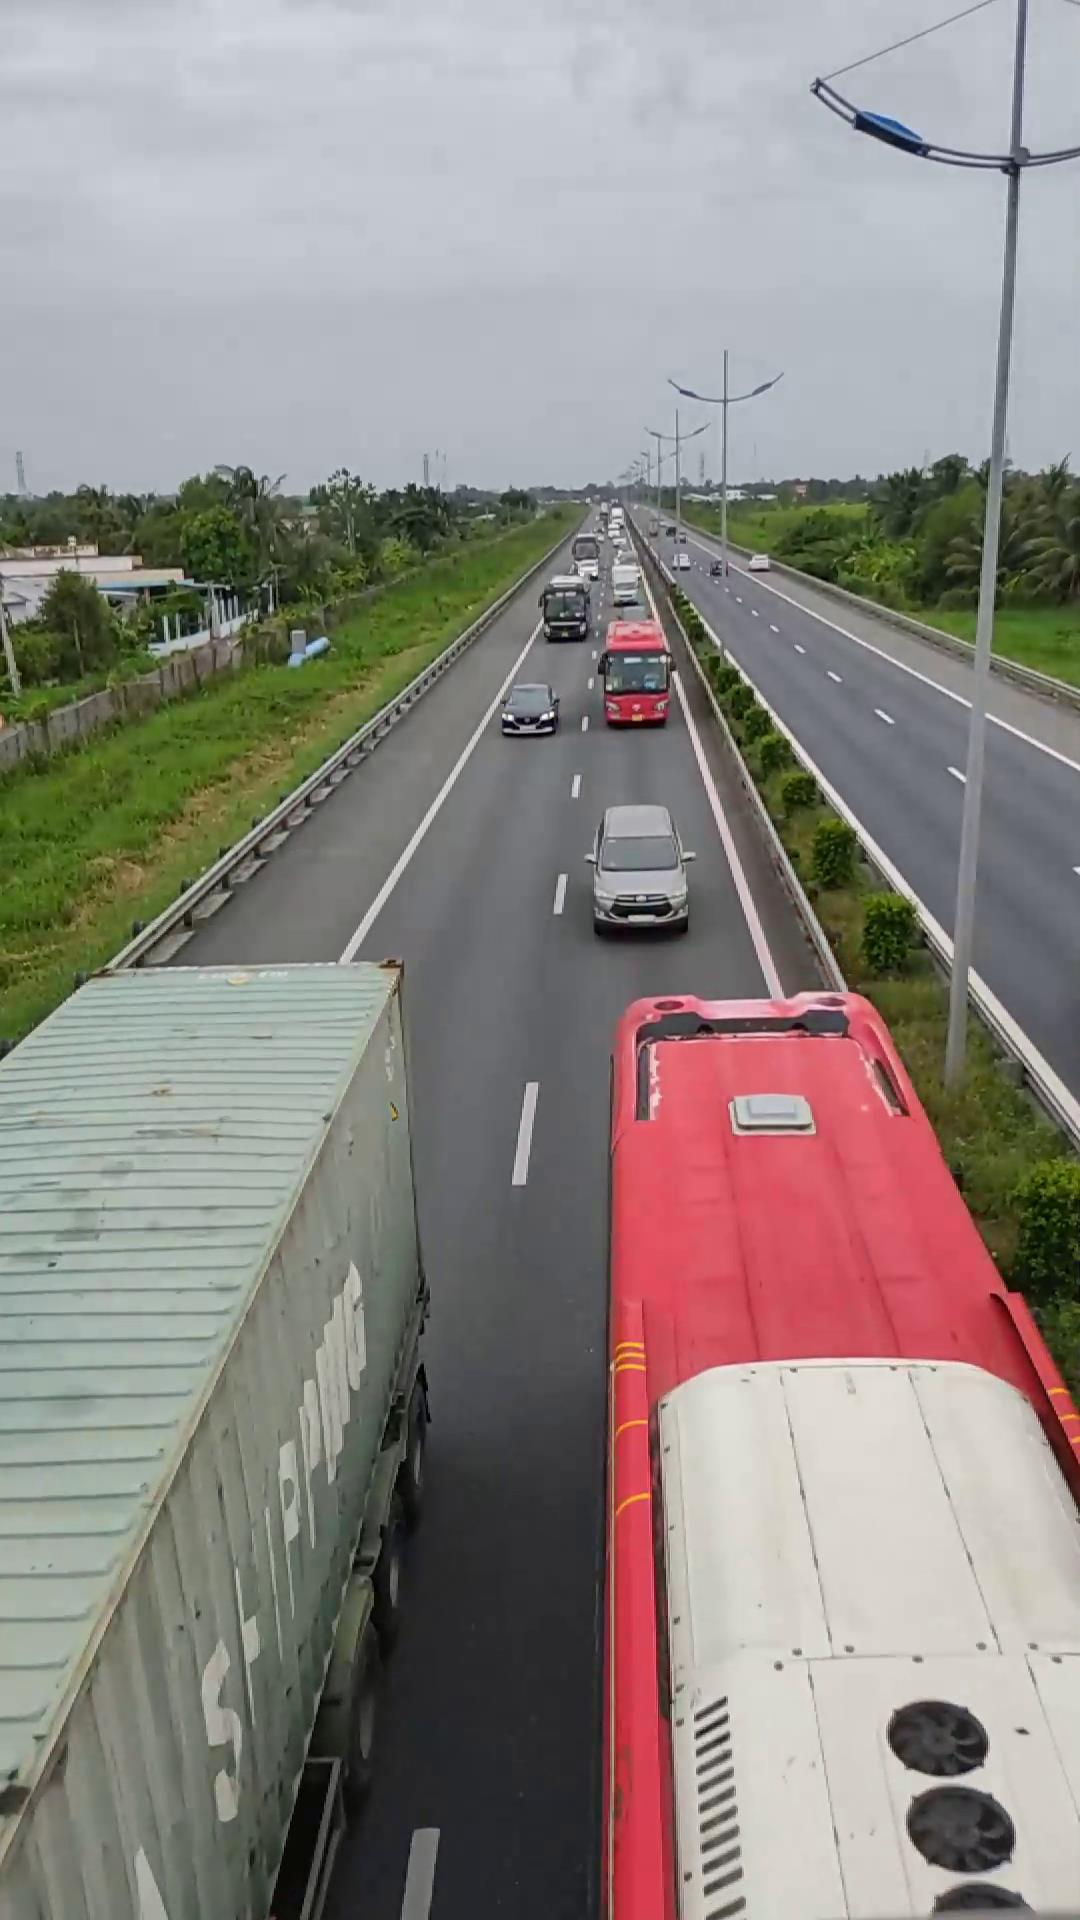bus: (607, 989, 1075, 1905)
car: (584, 803, 692, 935)
container: (0, 953, 443, 1920)
